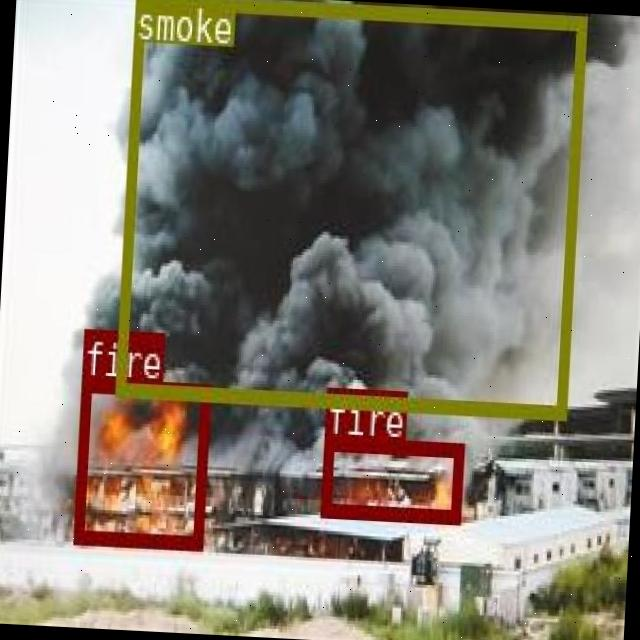fire: (73, 377, 208, 548), (320, 436, 462, 520)
smoke: (113, 0, 585, 419)
